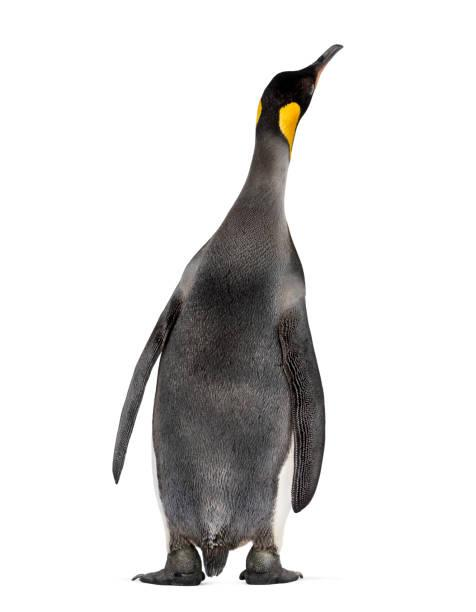king: (104, 46, 359, 608)
